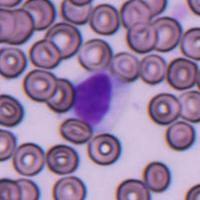L: (73, 66, 130, 130)
